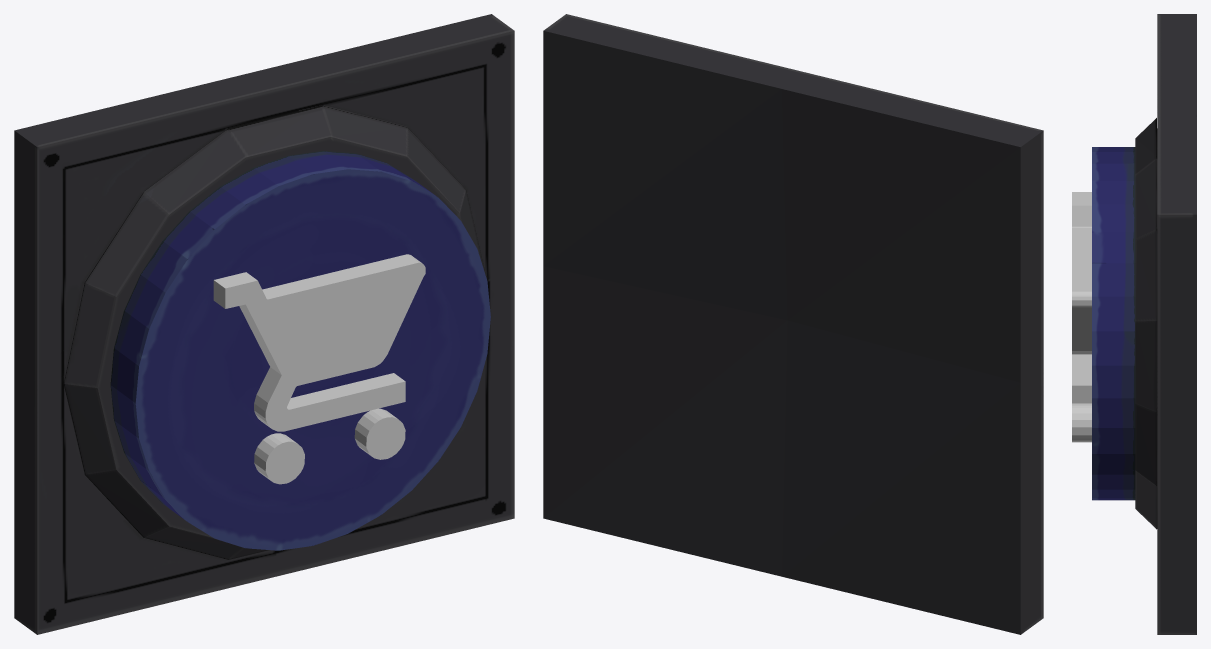
File: button_-_lowpoly.obj
3 views of the same model, side by side, from view 1: azimuth 30°, elevation 25°; view 2: azimuth 150°, elevation 25°; view 3: azimuth 270°, elevation 25° (orthographic). The views are drawn at different scales.
Visible parts, largest first — view 1: Object.1, Object.4, Object.2, Object.3; view 2: Object.1; view 3: Object.1, Object.4, Object.2.
Boxes of the visible parts, x1,y1,x2,y2 form: Object.1: [14, 14, 514, 634]; Object.4: [213, 254, 425, 431]; Object.2: [354, 408, 405, 459]; Object.3: [254, 433, 304, 484]; Object.1: [543, 14, 1043, 634]; Object.1: [1092, 14, 1196, 634]; Object.4: [1072, 192, 1091, 403]; Object.2: [1072, 403, 1091, 442].
Bounding box in the file's own units: 1280 × 1249 × 336.
